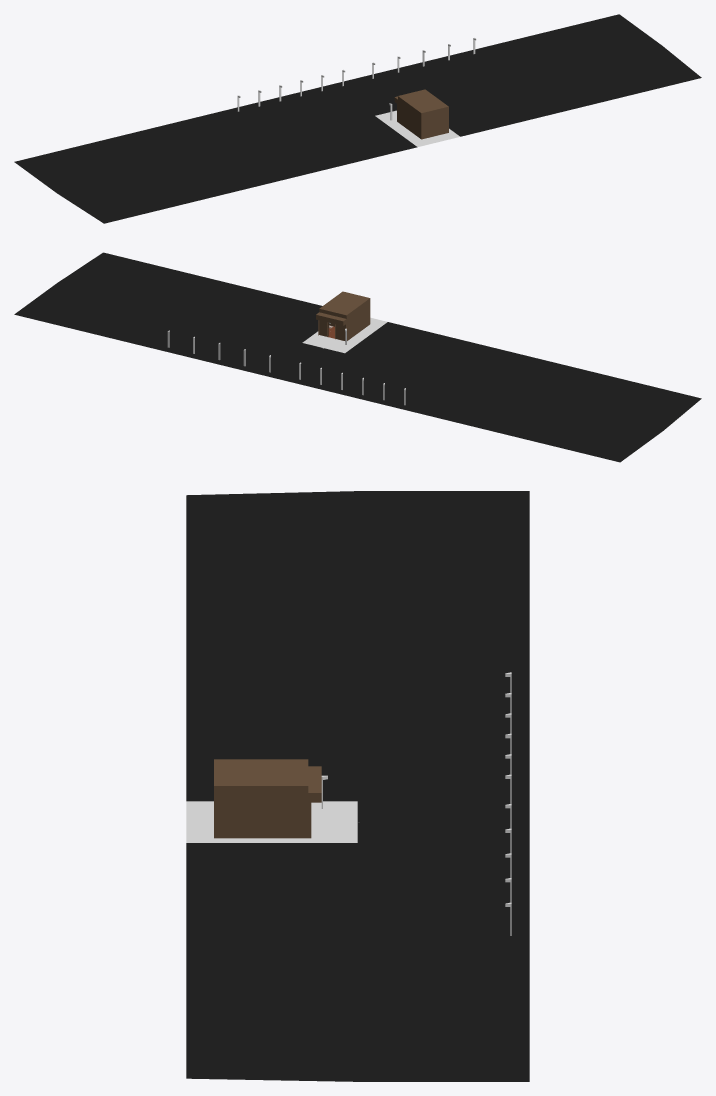
Rendered from shop.glb.
3 views of the same model, one above another, from view 1: azimuth 30°, elevation 25°; view 2: azimuth 150°, elevation 25°; view 3: azimuth 270°, elevation 25° (orthographic). The views are drawn at different scales.
Visible parts, largest first — view 1: WOrld ground, Back wall, Plane, Right; view 2: WOrld ground, Front wall, Plane, Right; view 3: WOrld ground, LEft, Plane.
Part boxes in pixels (box(x1,y1,x2,y2)): WOrld ground: box(14, 14, 701, 223); Back wall: box(421, 106, 448, 139); Plane: box(398, 89, 448, 113); Right: box(398, 96, 421, 138); WOrld ground: box(14, 252, 701, 462); Front wall: box(316, 309, 346, 341); Plane: box(319, 291, 369, 315); Right: box(346, 298, 370, 340); WOrld ground: box(186, 491, 529, 1081); LEft: box(214, 786, 308, 838); Plane: box(214, 759, 308, 785).
Size of the model in its own units: 925 by 38.59 by 227.
